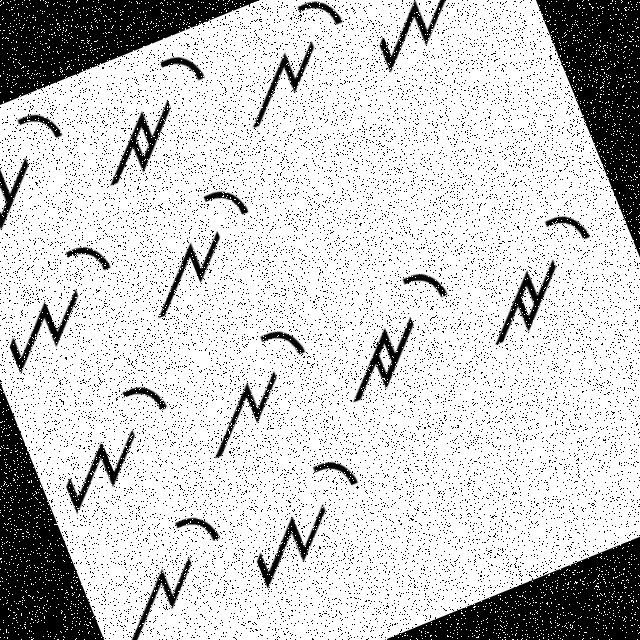lay: (110, 164, 286, 338), (168, 299, 341, 476), (206, 0, 375, 140), (91, 498, 250, 639)
ray: (61, 34, 237, 198), (310, 254, 482, 421), (452, 194, 626, 359), (0, 95, 95, 250)
yay: (222, 444, 401, 612), (23, 364, 195, 520), (0, 224, 140, 385), (344, 0, 514, 89)
